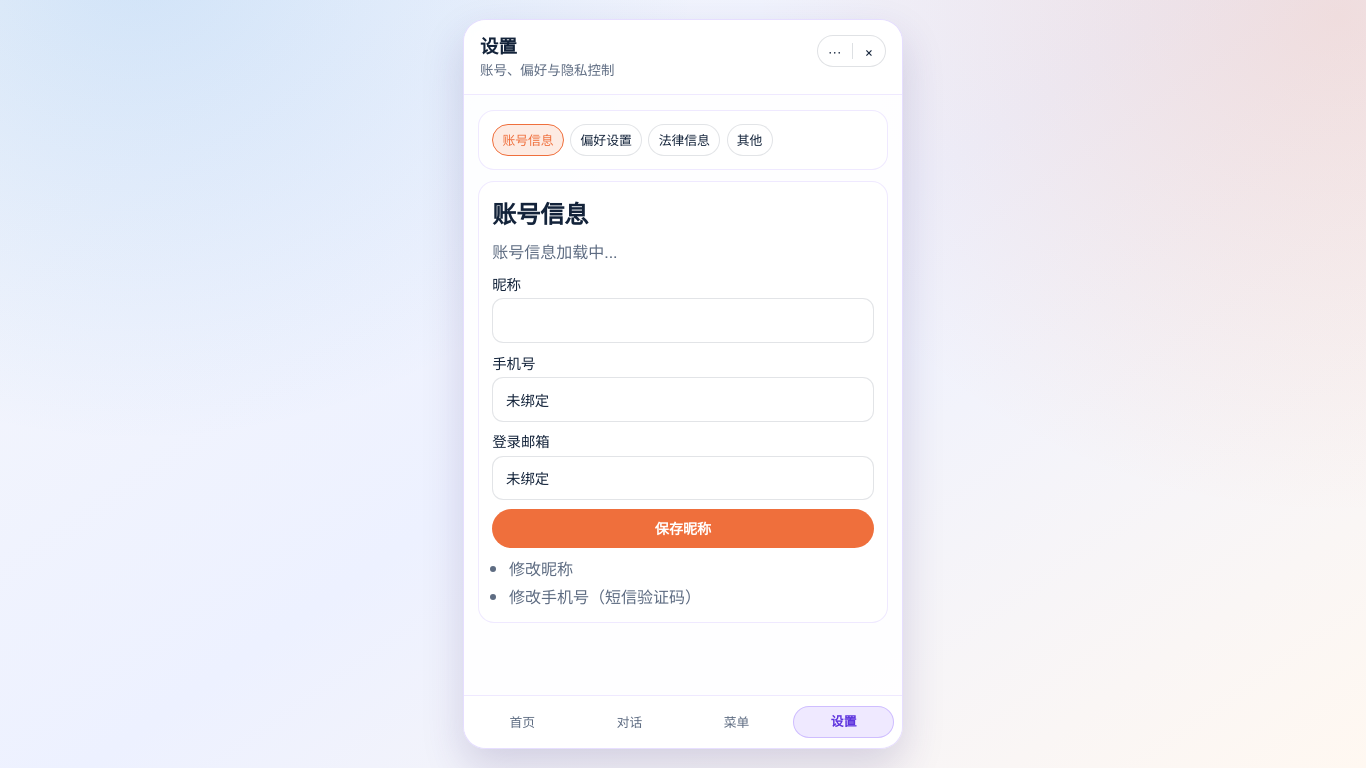
SettingsPage › saves nickname from account tab
In the field labelled "昵称": (683, 321) [492,298,874,343], type "新昵称"
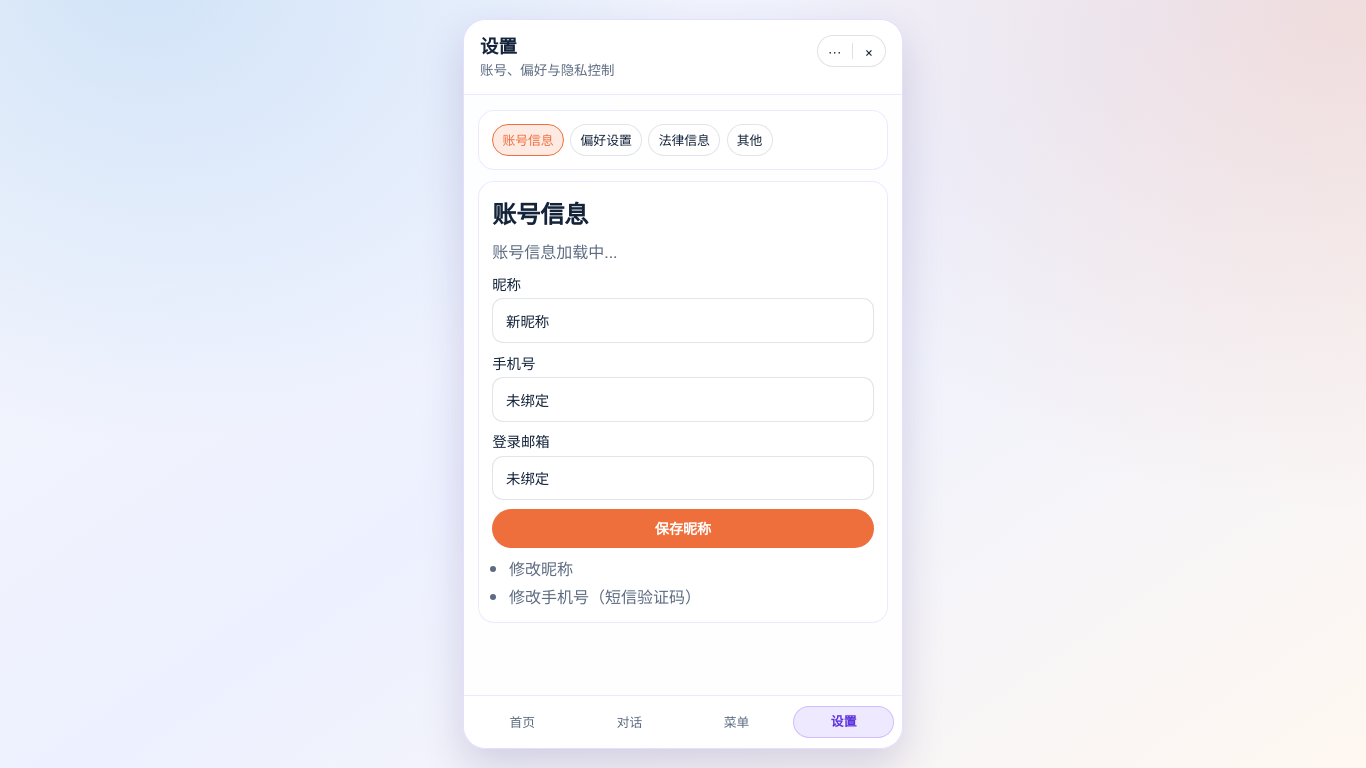
Click the button "保存昵称": (683, 528) [492,509,874,548]
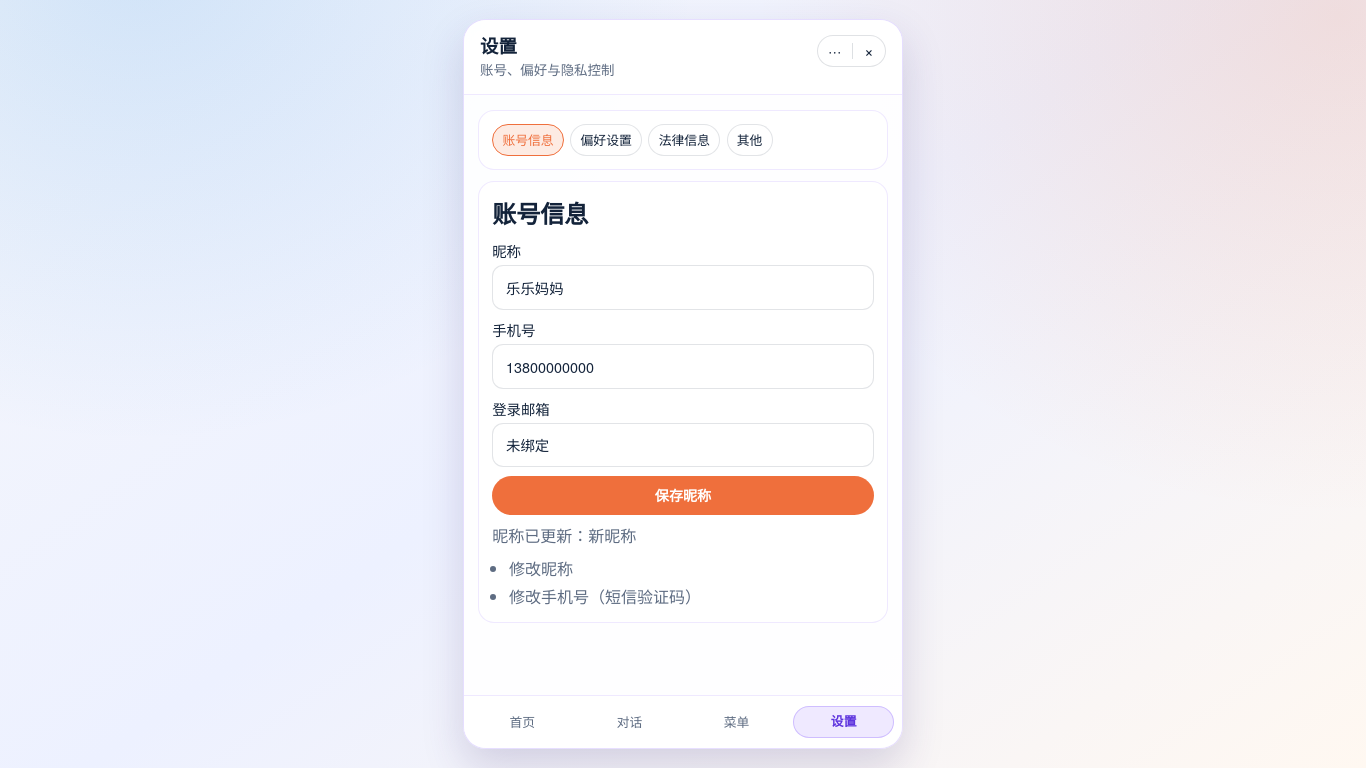
Expected: the text "昵称已更新：新昵称" is shown, [492,524,636,547]
